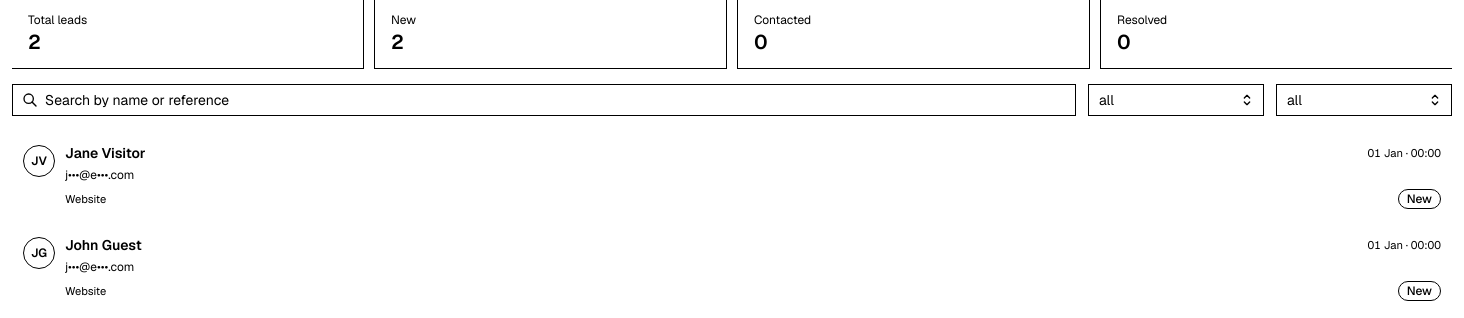
Scenario: LeadsView — search and filters › search matches the lead’s display name
Expected: the text "Jane Visitor" is shown, [65, 143, 146, 163]
In the search field named "Search leads": point(544, 100) [12, 84, 1076, 116], type "john"
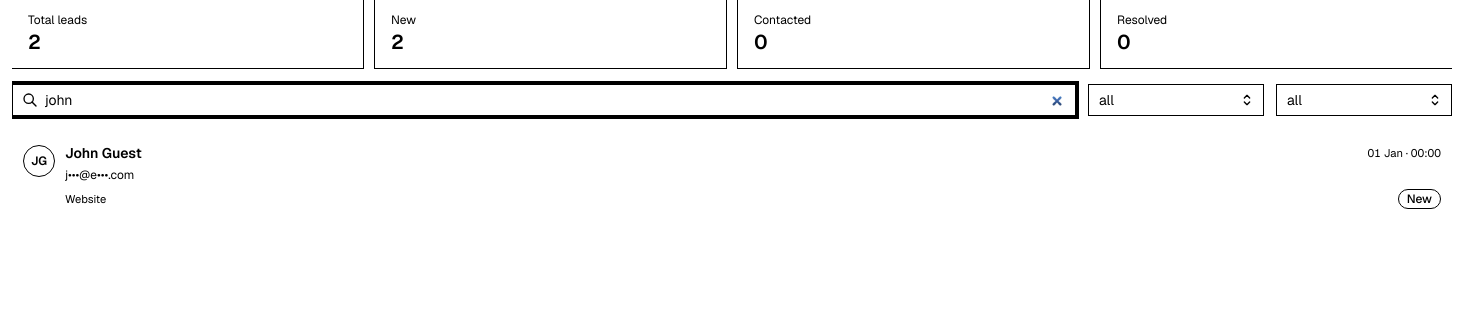
Expected: the text "John Guest" is shown, [65, 143, 142, 163]
Now the button "Jane Visitor" is gone
